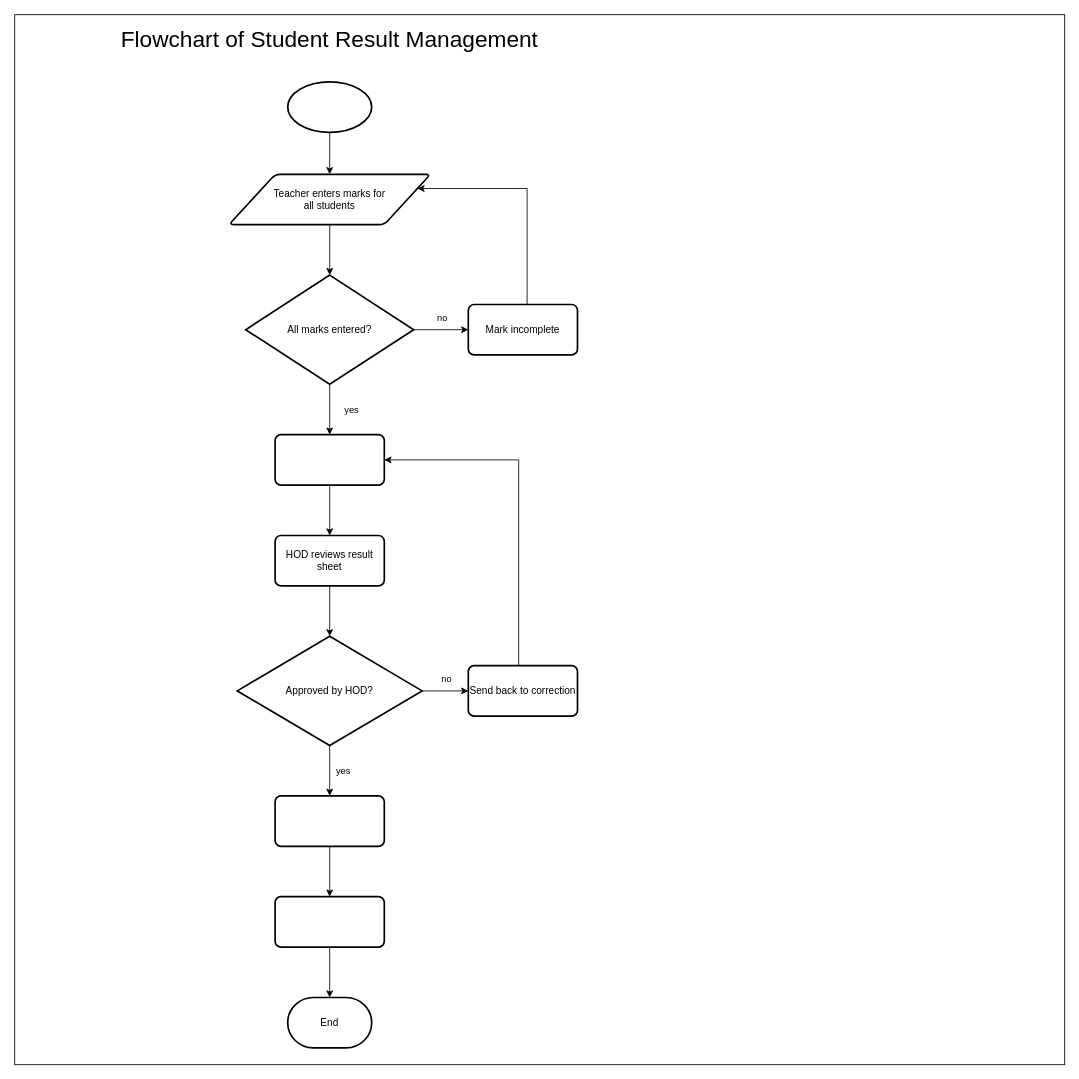
Some shapes in this 1079 by 1079 pixel diagram are drawn without their labels. The shapes that lost their labels are listed below. From the top down, each one's centre as x and y in pixels, then its label:
point 329,107: Start
point 329,459: Admin compiles result
point 329,821: Publish results
point 329,921: Notify students
